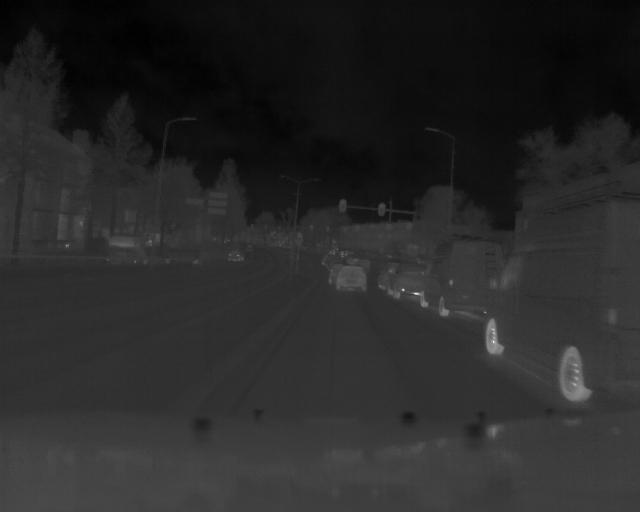car: (483, 233, 640, 406), (419, 230, 500, 318), (378, 254, 424, 301), (330, 263, 370, 296)
